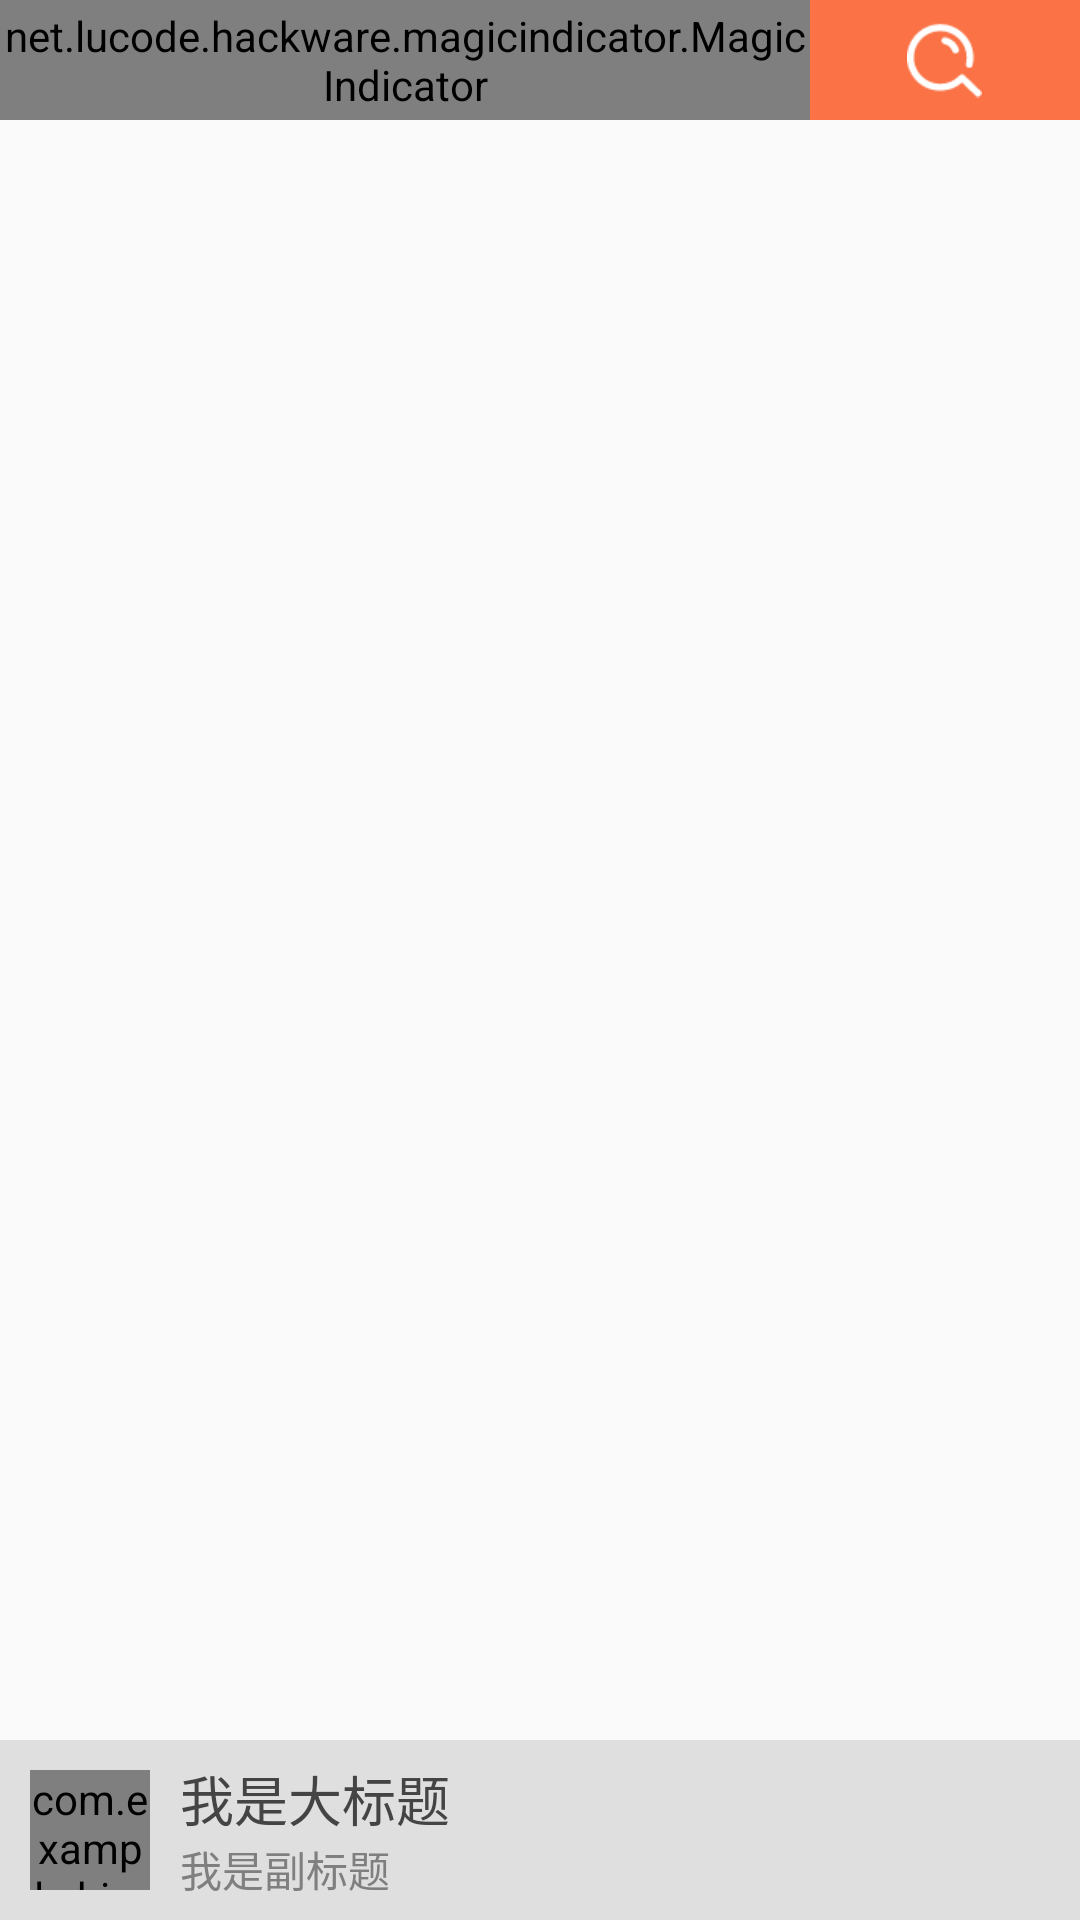

Screen size 1080w x 1920h. Icon name, then its center in pixels as point (x, y):
search: point (944, 60)
